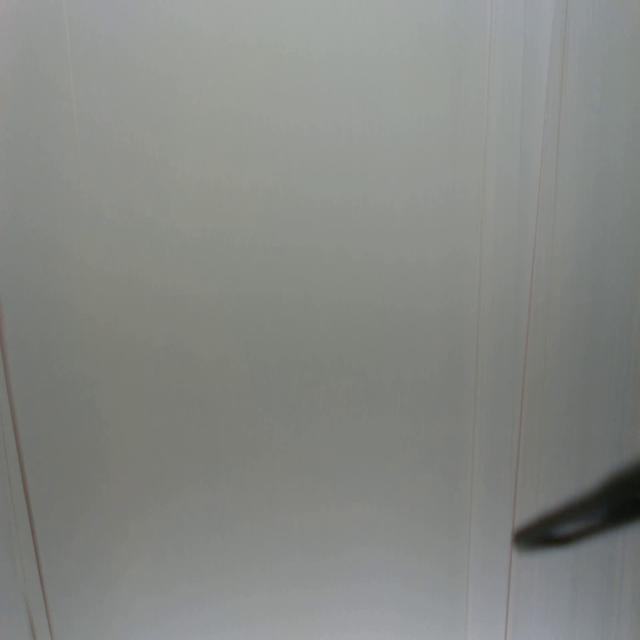crease: (514, 1, 556, 512), (464, 0, 493, 639), (0, 329, 53, 639), (0, 412, 34, 635), (554, 0, 570, 156), (516, 0, 528, 183), (63, 0, 78, 136), (504, 514, 517, 637)
